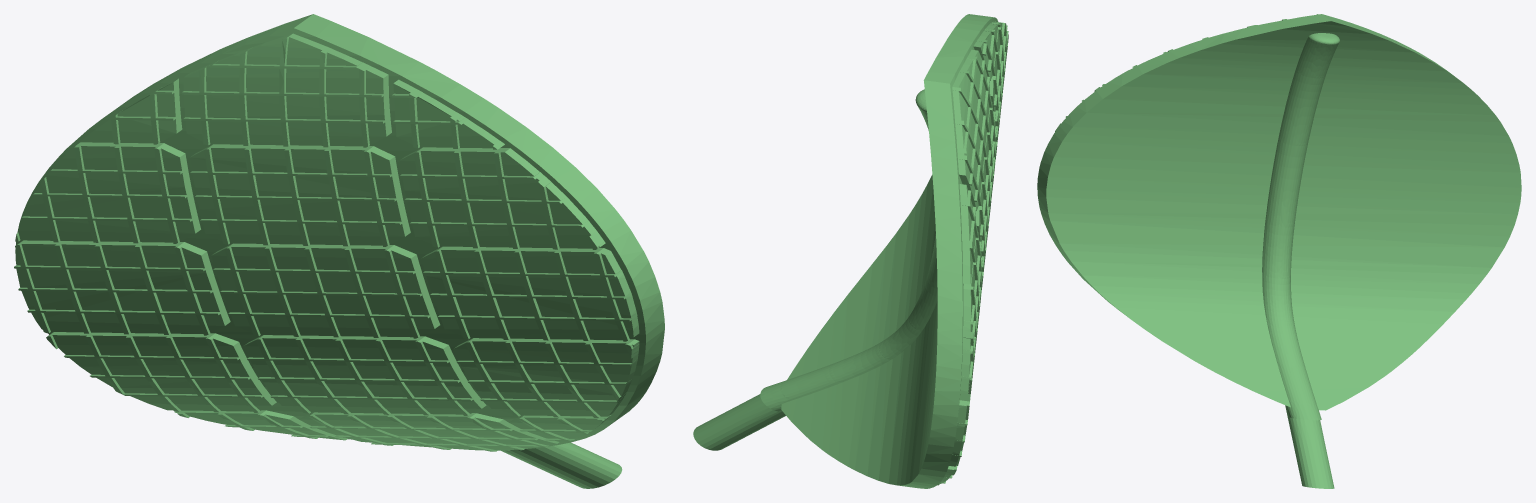
Rendered from apple3.glb.
3 views of the same model, side by side, from view 1: azimuth 30°, elevation 25°; view 2: azimuth 150°, elevation 25°; view 3: azimuth 270°, elevation 25° (orthographic). The views are drawn at different scales.
Visible parts, largest first — view 1: Mesh_Mesh_head_geo.001_lambert2SG.001; view 2: Mesh_Mesh_head_geo.001_lambert2SG.001; view 3: Mesh_Mesh_head_geo.001_lambert2SG.001.
Part boxes in pixels (x1,y1,x2,y2): Mesh_Mesh_head_geo.001_lambert2SG.001: [14, 14, 664, 488]; Mesh_Mesh_head_geo.001_lambert2SG.001: [693, 14, 1008, 488]; Mesh_Mesh_head_geo.001_lambert2SG.001: [1037, 14, 1521, 488].
Bounding box in the file's own units: 0.00607 × 0.00649 × 0.00758.
